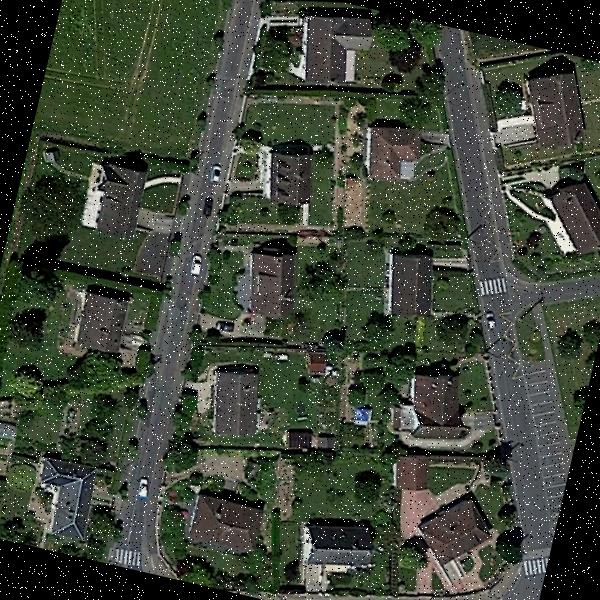Buildings: (289, 6, 378, 98), (28, 456, 106, 549), (80, 155, 157, 244), (512, 66, 590, 153), (188, 489, 274, 562), (200, 364, 274, 446), (372, 254, 445, 329), (541, 172, 600, 262), (396, 378, 474, 444), (237, 246, 301, 322), (356, 120, 422, 192), (422, 494, 484, 562), (300, 518, 379, 566), (74, 290, 132, 350), (258, 148, 320, 200)
